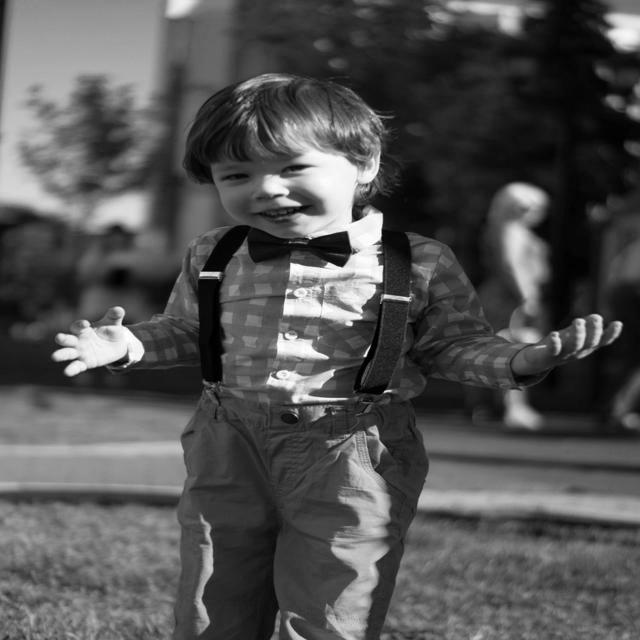Happiness: (202, 127, 363, 243)
